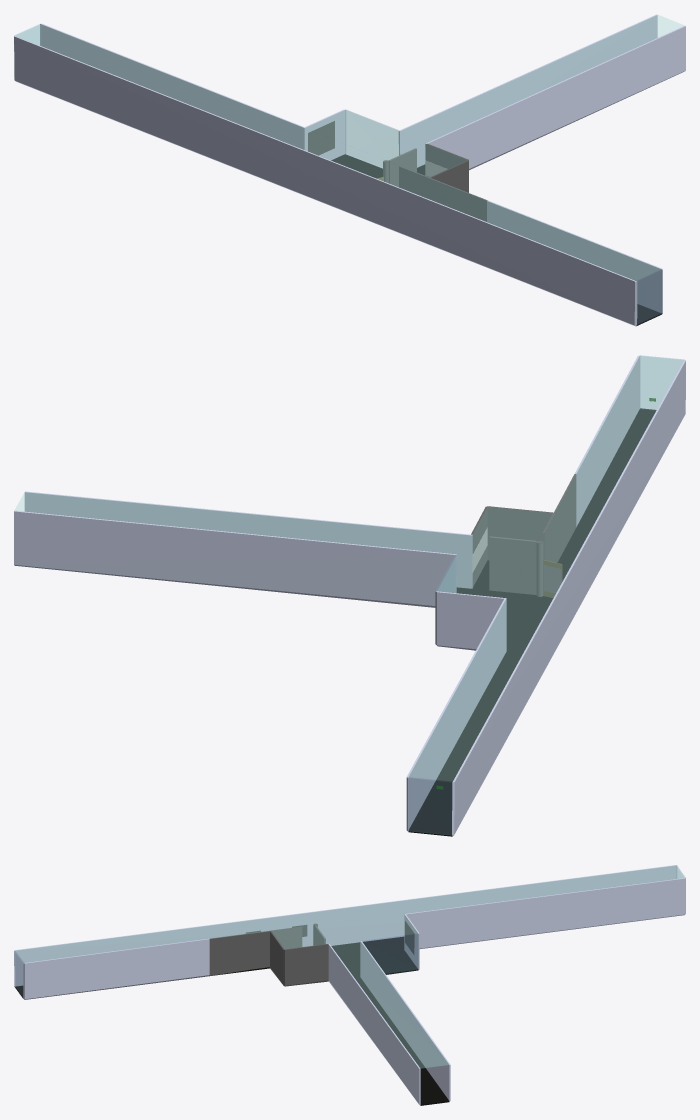
The model's file is inue-northwest-wall.glb.
3 renders of one model, top to bottom at view 1: azimuth 30°, elevation 25°; view 2: azimuth 150°, elevation 25°; view 3: azimuth 270°, elevation 25°, orthographic. The views are drawn at different scales.
Parts seen in each view (by area): view 1: plasterboard, ceiling, concretewalls, lobbyglass, northernwall, floor, alumniwall, KNSW, KWEW; view 2: plasterboard, ceiling, floor, concretewalls, KWEW, southernwall, northernwall; view 3: plasterboard, ceiling, concretewalls, floor, lobbyglass, KNSW.
Boxes of the visible parts, left/top/right/bottom form: plasterboard: left=14, top=14, right=685, bottom=326; ceiling: left=16, top=15, right=683, bottom=280; concretewalls: left=425, top=143, right=487, bottom=221; lobbyglass: left=346, top=110, right=398, bottom=167; northernwall: left=637, top=269, right=661, bottom=324; floor: left=331, top=154, right=662, bottom=326; alumniwall: left=308, top=121, right=334, bottom=155; KNSW: left=399, top=166, right=429, bottom=198; KWEW: left=388, top=148, right=416, bottom=186; plasterboard: left=14, top=355, right=685, bottom=836; ceiling: left=15, top=356, right=683, bottom=781; floor: left=408, top=408, right=656, bottom=836; concretewalls: left=471, top=474, right=576, bottom=586; KWEW: left=489, top=536, right=536, bottom=594; southernwall: left=408, top=777, right=452, bottom=835; northernwall: left=640, top=355, right=683, bottom=409; plasterboard: left=14, top=865, right=685, bottom=1105; ceiling: left=16, top=865, right=684, bottom=1068; concretewalls: left=209, top=930, right=328, bottom=986; floor: left=14, top=936, right=449, bottom=1105; lobbyglass: left=362, top=934, right=418, bottom=974; KNSW: left=271, top=926, right=302, bottom=949.
Size of the model in its own units: 36.03 by 3.09 by 50.17.
